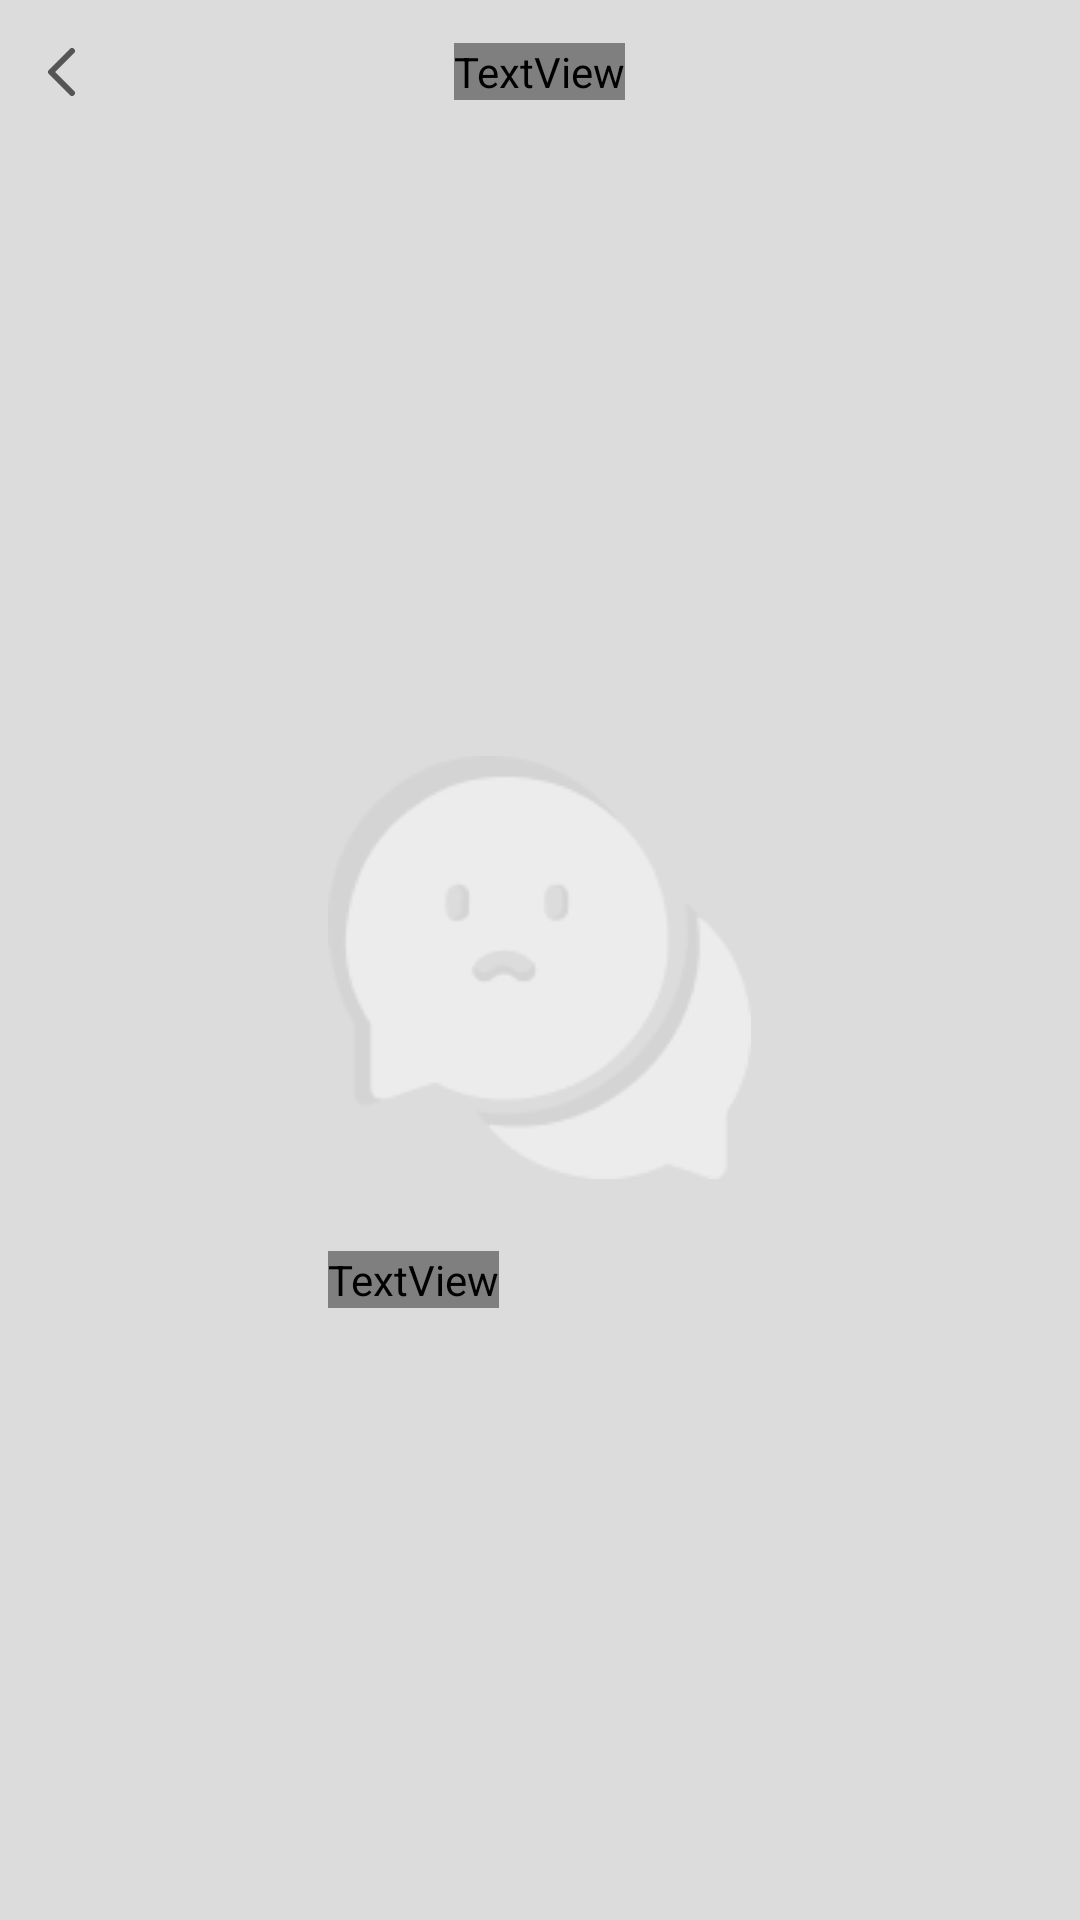

Icons on this 1080px x 1920px Android screen, each with its box as (x1,y1,x2,y2):
arrow back: (48,48,75,96)
